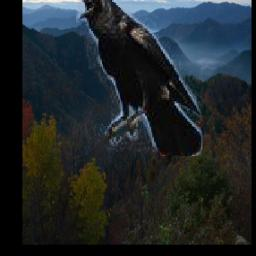Crow: (77, 0, 203, 157)
